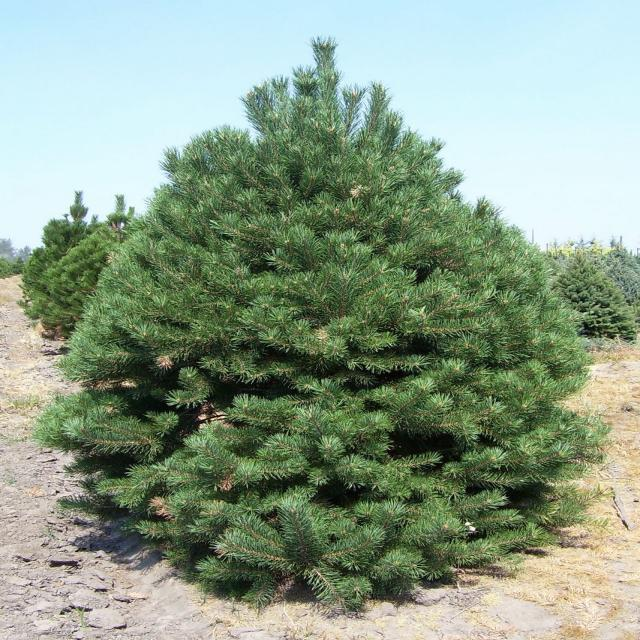pino: (70, 26, 603, 610)
